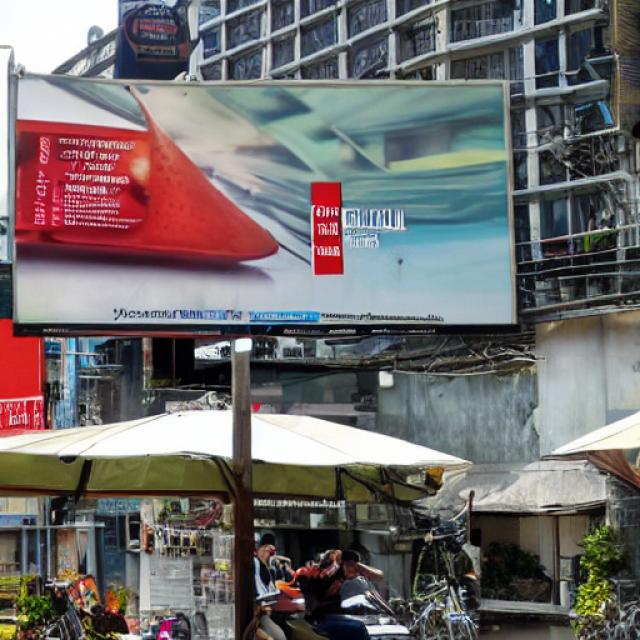Billboard: (9, 76, 526, 330)
